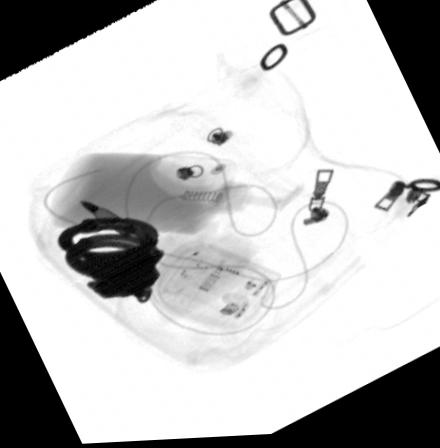Bullet: (75, 197, 137, 238)
HandCuffs: (55, 219, 167, 305)
